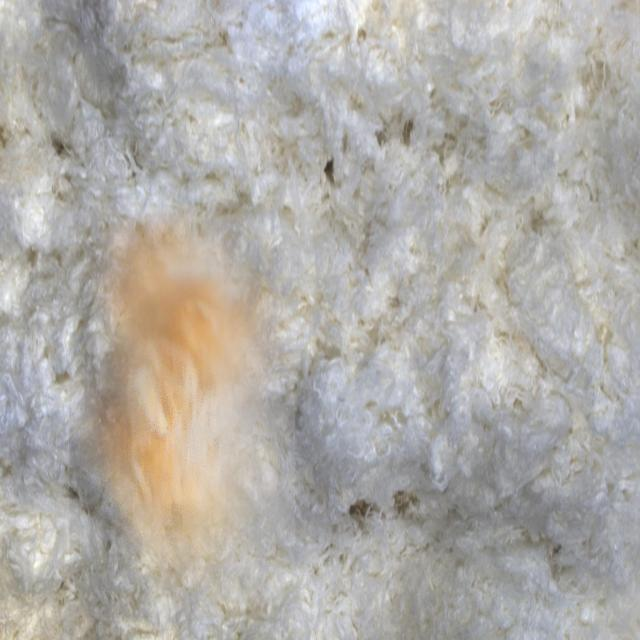dust: (69, 205, 295, 618)
